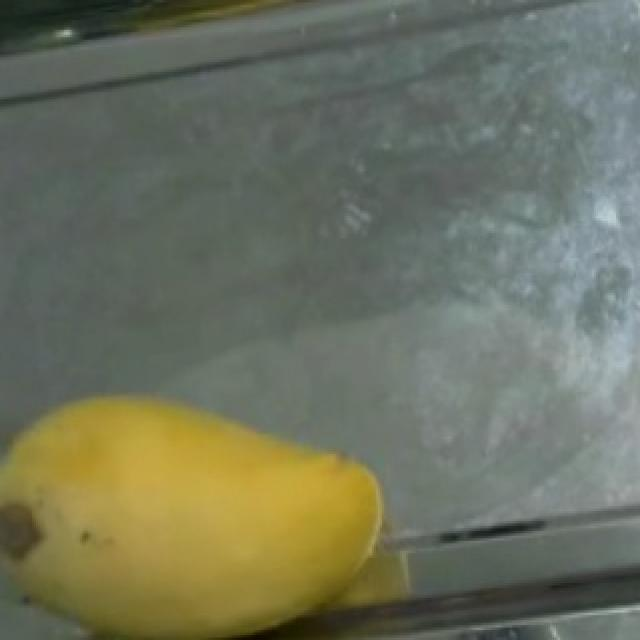fruit: (14, 350, 420, 640)
